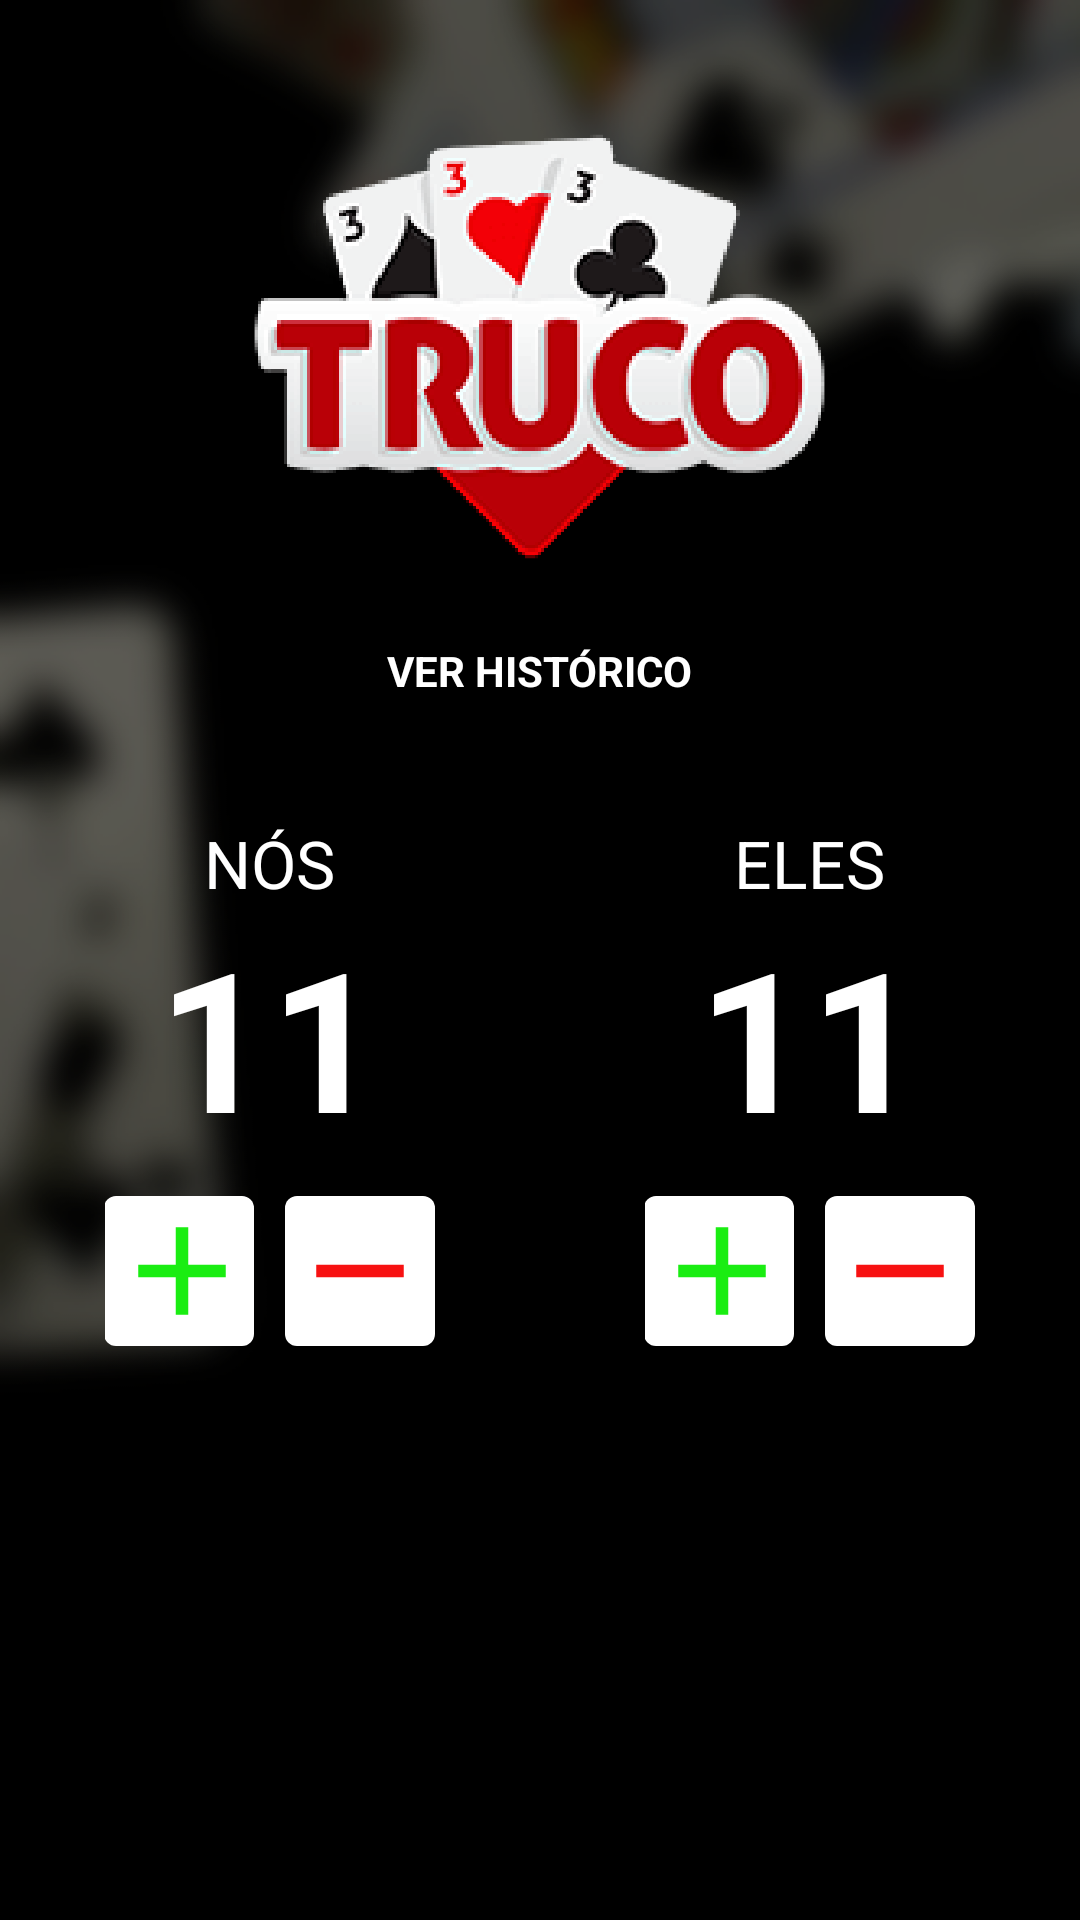

Icon click points for this 1080 x 1920 phone screenshot, format (x=x, y=y):
less: (x=360, y=1271), (x=900, y=1271)
plus: (x=180, y=1271), (x=719, y=1271)
